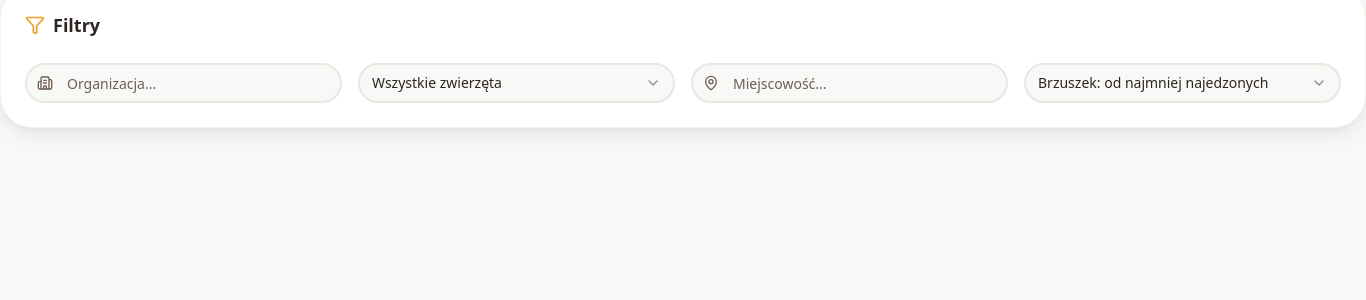
Test: AnimalFilters › Sort Filter › should show sort options when clicked
Click the dropdown "Brzuszek: od najmniej najedzonych". click: click(1182, 83)
box: [1024,63,1341,103]
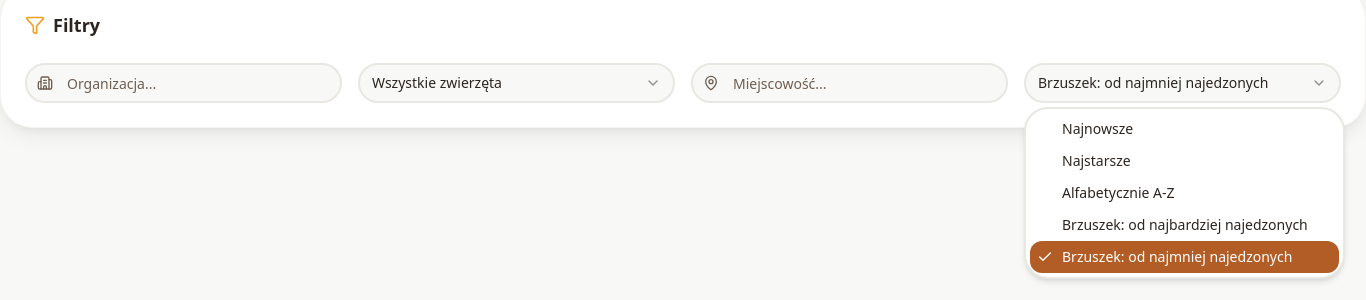
expect the text "Najnowsze" is shown: met, box [1062,119,1133,139]
expect the text "Najstarsze" is shown: met, box [1062,151,1131,171]
expect the text "Alfabetycznie A-Z" is shown: met, box [1062,183,1174,203]
